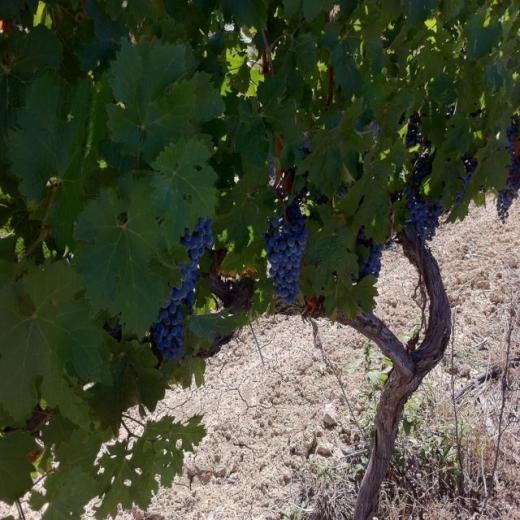Orange: (150, 216, 212, 362), (265, 207, 308, 305), (406, 154, 442, 239), (497, 121, 520, 221), (355, 224, 384, 282), (456, 162, 477, 204), (405, 110, 420, 148), (334, 182, 348, 198)
